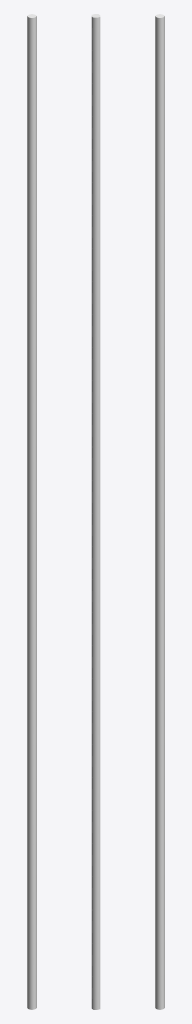
The model's file is Fishing_rope.FBX.
3 views of the same model, side by side, from view 1: azimuth 90°, elevation 25°; view 2: azimuth 150°, elevation 25°; view 3: azimuth 270°, elevation 25° (orthographic).
Visible parts, largest first — view 1: Fishing_rope; view 2: Fishing_rope; view 3: Fishing_rope.
Boxes of the visible parts, bbox=[...] form: Fishing_rope: bbox=[27, 14, 36, 1009]; Fishing_rope: bbox=[91, 14, 100, 1009]; Fishing_rope: bbox=[155, 14, 164, 1009].
Size of the model in its own units: 0.0177 by 1.97 by 0.0177.
